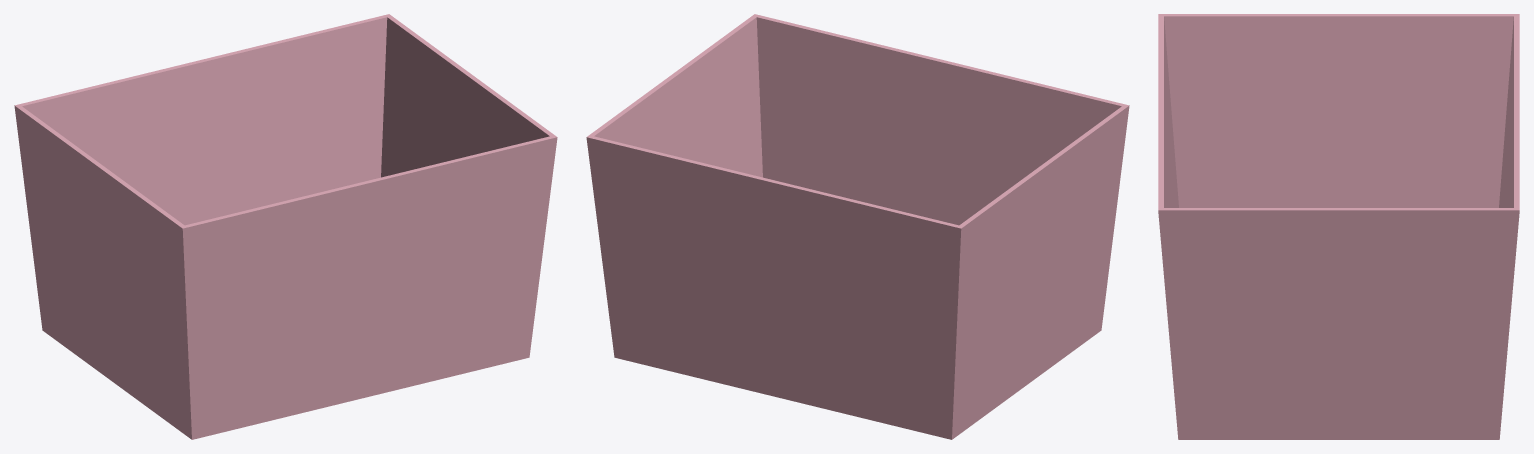
Rendered from throw_box_pink.dae.
3 renders of one model, left to right at view 1: azimuth 30°, elevation 25°; view 2: azimuth 150°, elevation 25°; view 3: azimuth 270°, elevation 25°, orthographic. The views are drawn at different scales.
Parts seen in each view (by area): view 1: Plane; view 2: Plane; view 3: Plane.
Part boxes in pixels (bbox=[...]): Plane: bbox=[14, 14, 557, 439]; Plane: bbox=[586, 14, 1129, 439]; Plane: bbox=[1158, 14, 1519, 439].
Bounding box in the file's own units: 0.405 × 0.315 × 0.23.
